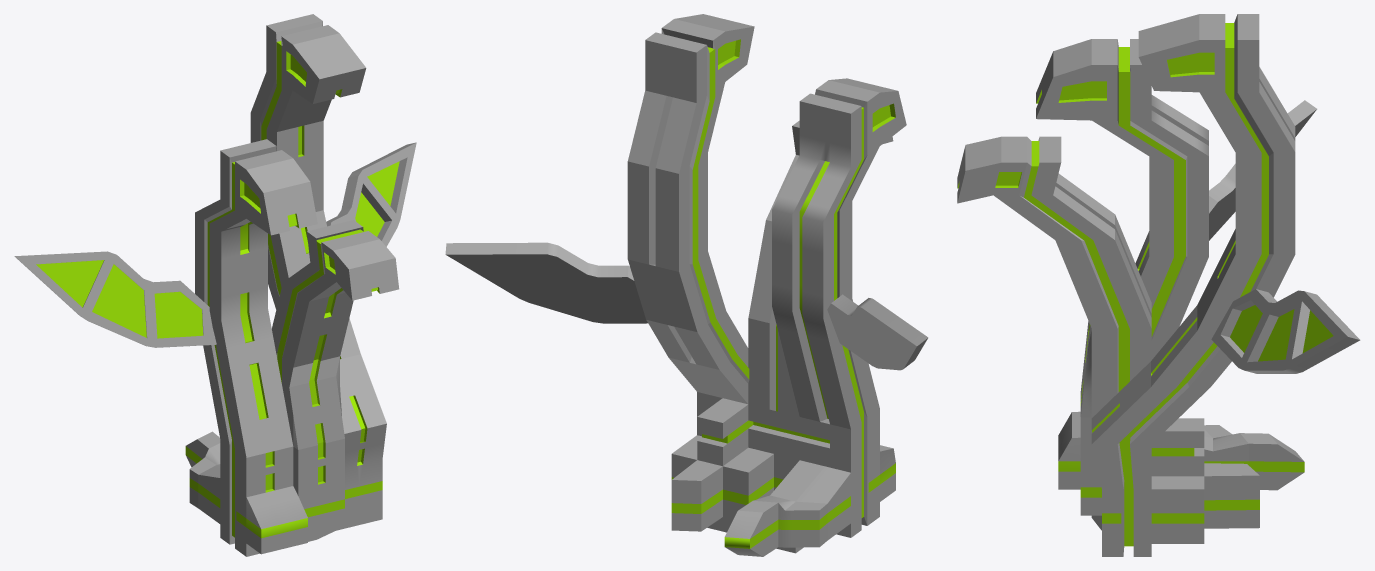
File: GlassMonster.fbx
3 renders of one model, left to right at view 1: azimuth 30°, elevation 25°; view 2: azimuth 150°, elevation 25°; view 3: azimuth 270°, elevation 25°, orthographic. The views are drawn at different scales.
Parts seen in each view (by area): view 1: Grass; view 2: Grass; view 3: Grass.
Boxes of the visible parts, x1,y1,x2,y2 form: Grass: (14,14,416,556); Grass: (445,14,928,556); Grass: (957,14,1360,556).
Size of the model in its own units: 3.8 by 3.92 by 2.77.
